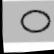no answer: (14, 6, 53, 36)
